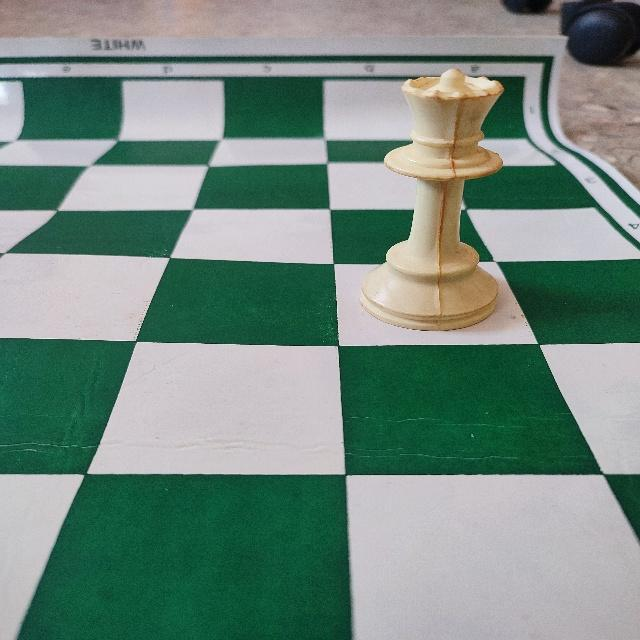Queen: (352, 65, 510, 333)
